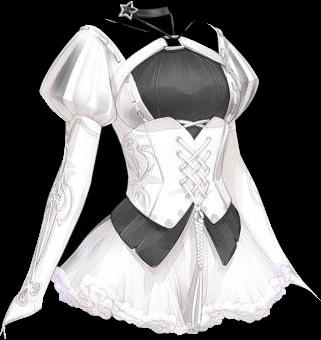Bodice: (83, 24, 241, 268)
Hemline: (54, 276, 290, 335)
Neckline: (86, 23, 220, 60), (126, 196, 233, 229), (119, 113, 228, 143)
Skirt: (51, 212, 289, 334)
Sleeve: (0, 26, 112, 331)
Sleeveline: (78, 26, 114, 124), (65, 115, 104, 131)
Waistline: (109, 210, 242, 270)
